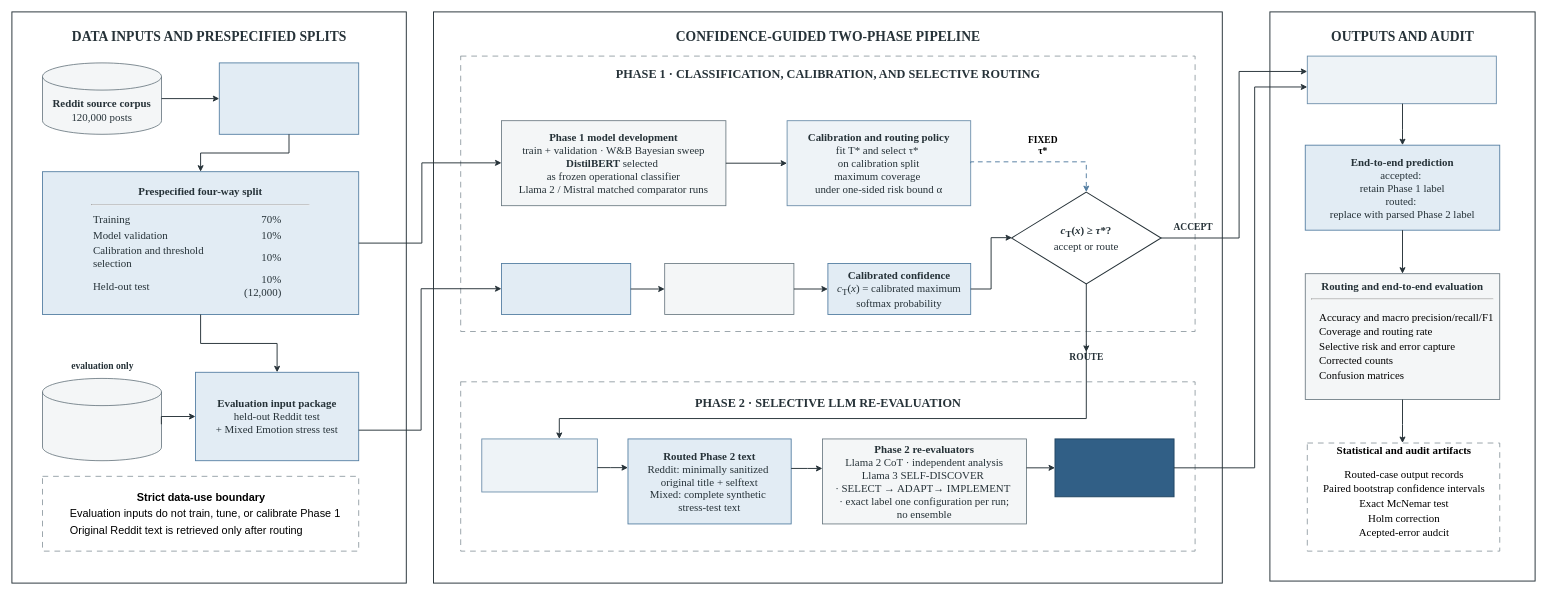
Image size: 1548x596. Some labels were removed from this diagram. The shapes that lost their labels are listed below. From the top down, each one's box as (x1, y1, x2, y2) in pixels, then its label:
(219, 62, 359, 134): Text preprocessing title + selftext
(1307, 55, 1496, 104): Final label selection accepted Phase 1 or routed Phase 2
(501, 263, 631, 315): Evaluation inputs held-out Reddit + Mixed Emotion
(664, 263, 794, 315): Frozen Phase 1 inference DistilBERT logits
(42, 378, 162, 461): Mixed Emotion stress test 300 synthetic evaluation examples
(481, 438, 598, 492): ROUTE low-confidence case
(1054, 438, 1174, 497): Parsed Phase 2 label routed cases only
